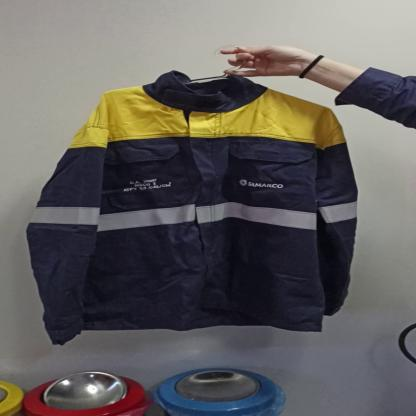C_eletrica: (27, 78, 359, 340)
